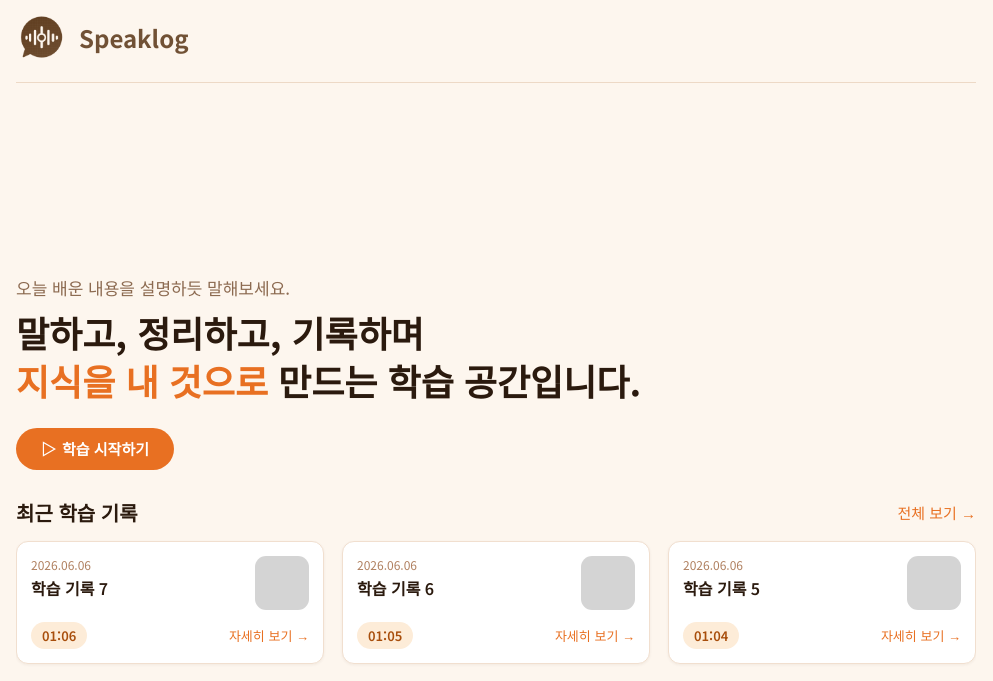
Test case: shows every saved record from the full records view
expect the text "학습 기록 1" is not shown: met
Click the button "전체 보기 →". click: (937, 513)
box: [897, 502, 976, 524]
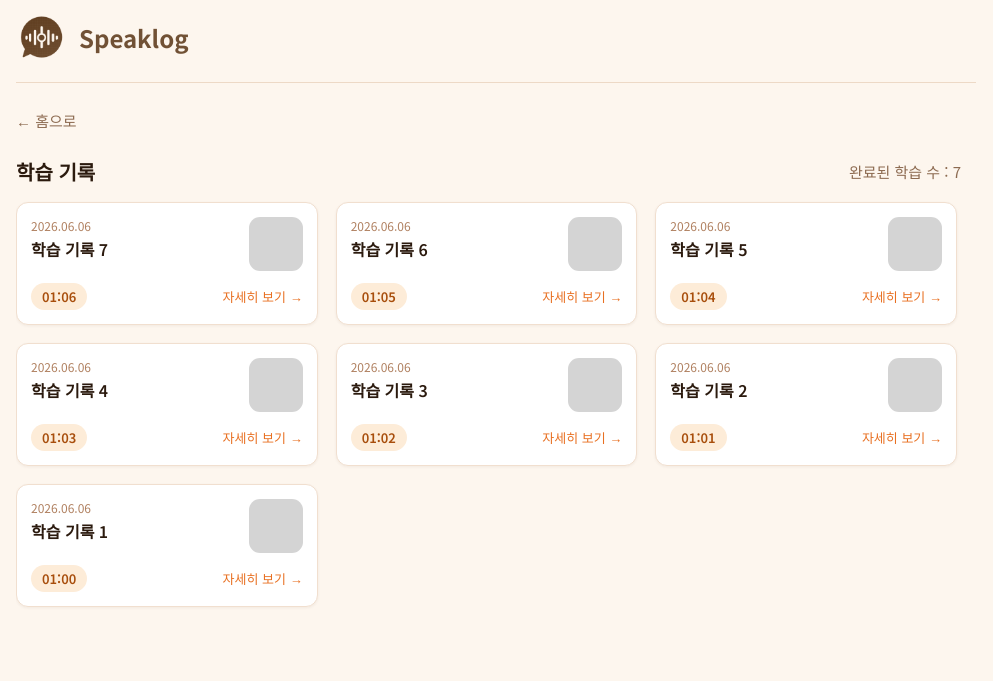
expect the heading "학습 기록" is shown: met, box [16, 157, 95, 186]
expect the text "완료된 학습 수 : 7" is shown: met, box [849, 161, 961, 182]
expect the text "학습 기록 1" is shown: met, box [31, 519, 108, 543]
